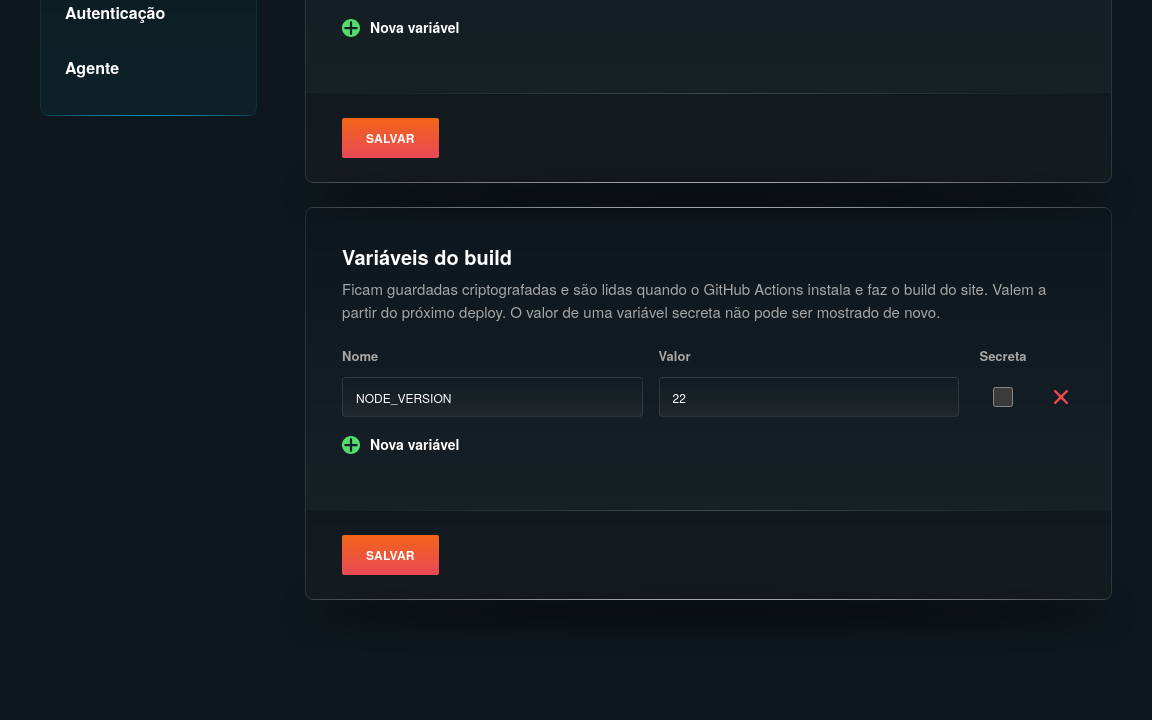
Test: project settings › environment variables › shows why the instance refused a variable
(page scrolled)
Replace the text in the field labelled "Valor" with "24" at [809, 397], box [658,377,959,417]
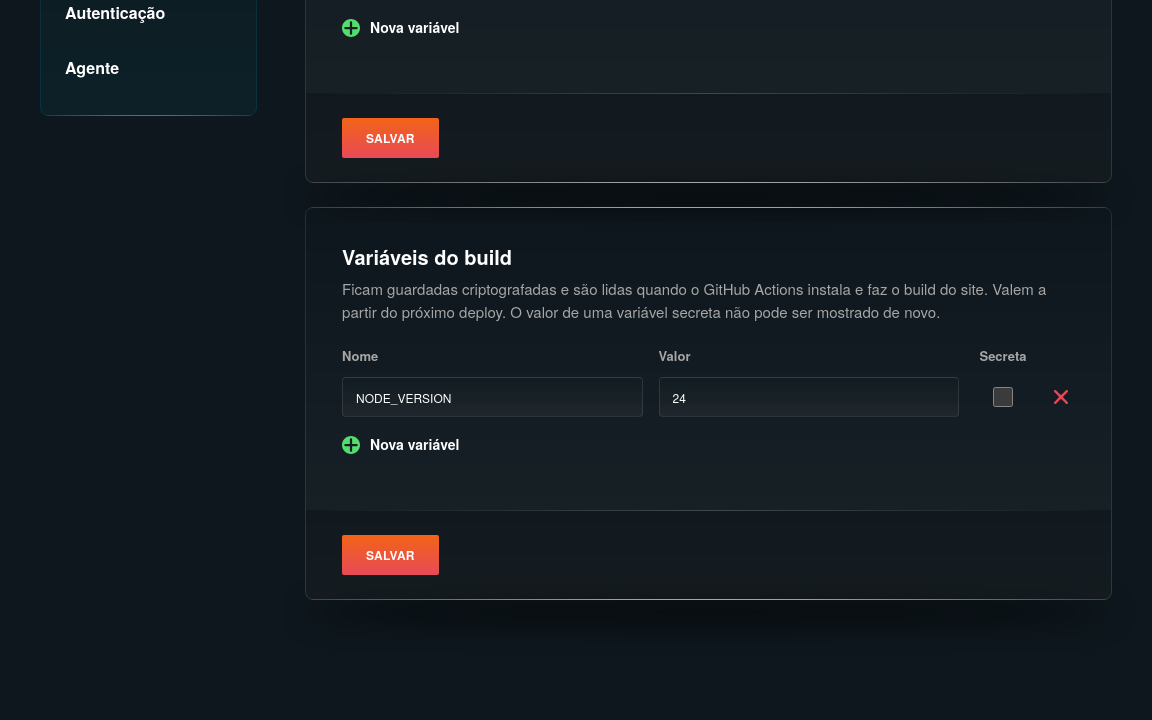
Click the button "Salvar" below "Variáveis do build" at [390, 555], box [342,535,439,575]
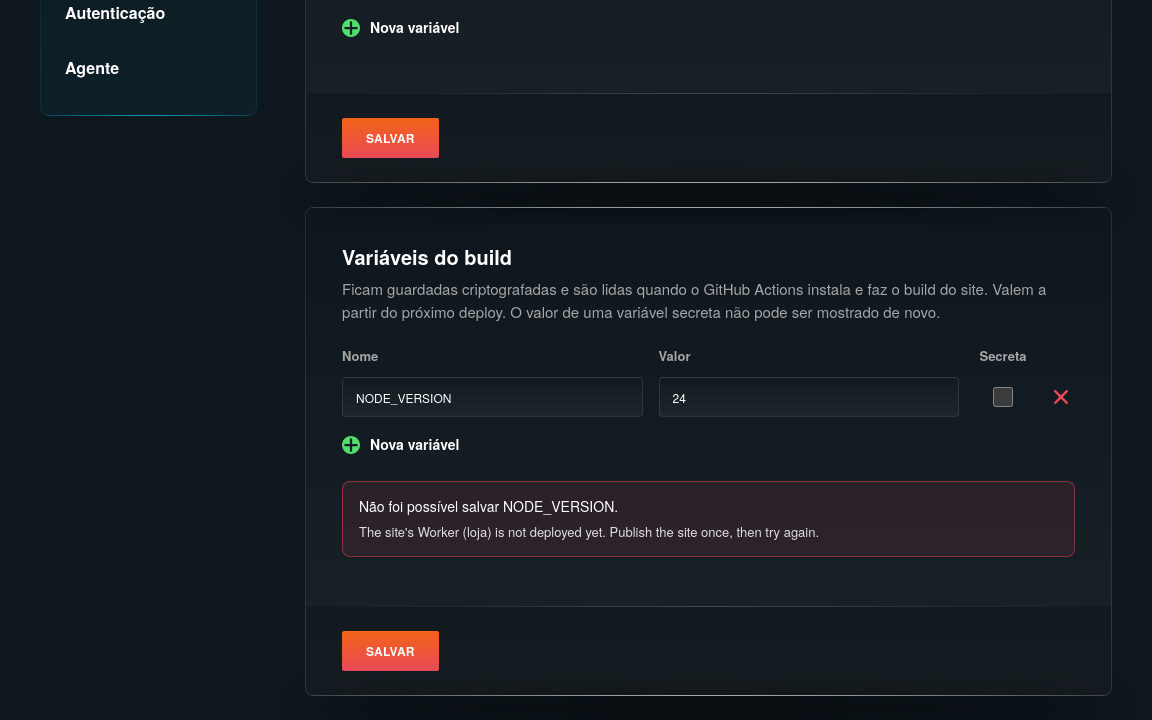
expect the message shows "Não foi possível salvar NODE_VERSION.": met, box [359,496,618,516]
expect the message shows "Publish the site once": met, box [359,522,819,540]
